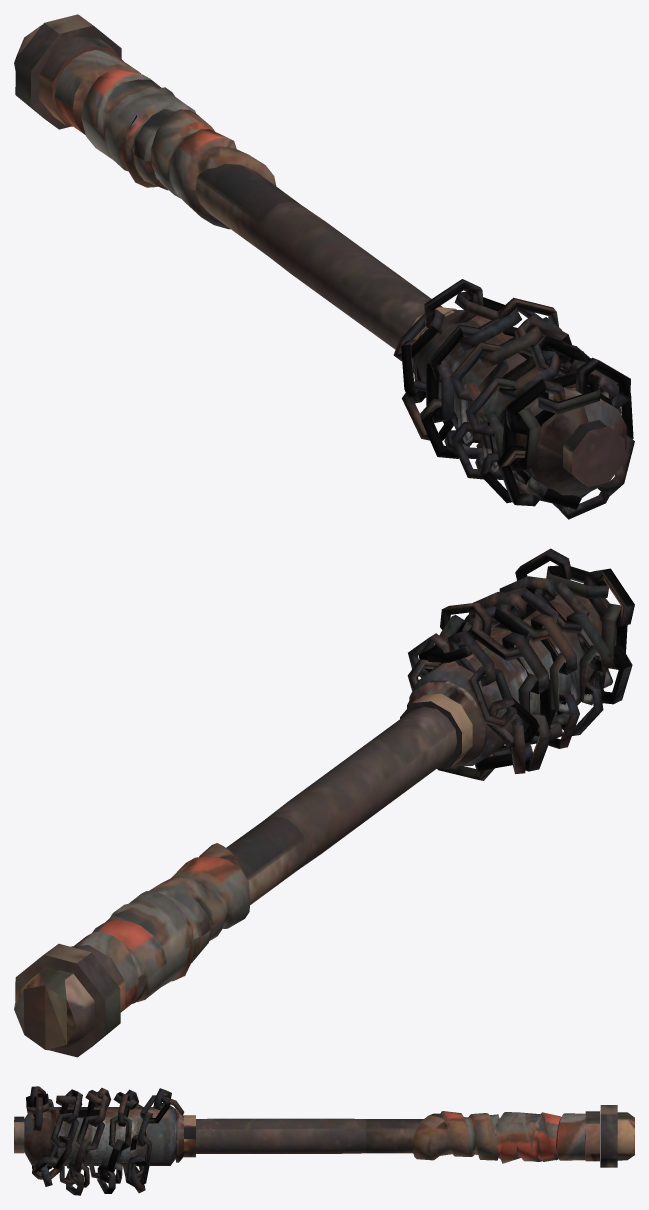
3 renders of one model, top to bottom at view 1: azimuth 30°, elevation 25°; view 2: azimuth 150°, elevation 25°; view 3: azimuth 270°, elevation 25°, orthographic. The views are drawn at different scales.
Parts seen in each view (by area): view 1: mesh_0; view 2: mesh_0; view 3: mesh_0.
Boxes of the visible parts, bbox=[...] form: mesh_0: bbox=[14, 14, 634, 519]; mesh_0: bbox=[14, 548, 634, 1057]; mesh_0: bbox=[14, 1086, 634, 1195].
Bounding box in the file's own units: 5.73 × 6.04 × 34.89.
1 material, 1 textured.
